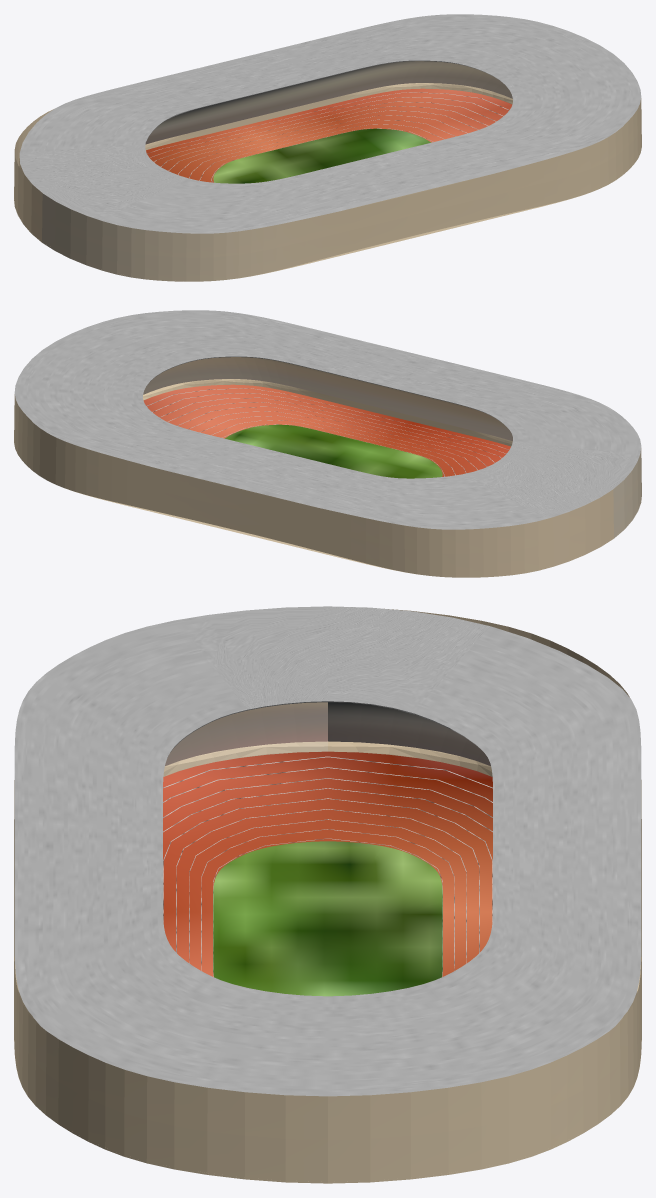
The model's file is stadium_nosky.obj.
3 views of the same model, one above another, from view 1: azimuth 30°, elevation 25°; view 2: azimuth 150°, elevation 25°; view 3: azimuth 270°, elevation 25° (orthographic). The views are drawn at different scales.
Parts seen in each view (by area): view 1: Roof_Torus.002, Stadium_Outer_Torus.005, Track_Torus.003, Crowds_Torus.001, Grass_Torus.004, Stadium_Torus, Lane_Torus.006; view 2: Roof_Torus.002, Stadium_Outer_Torus.005, Track_Torus.003, Crowds_Torus.001, Grass_Torus.004, Stadium_Torus, Lane_Torus.006; view 3: Roof_Torus.002, Stadium_Outer_Torus.005, Track_Torus.003, Grass_Torus.004, Crowds_Torus.001, Lane_Torus.006, Stadium_Torus.
Boxes of the visible parts, x1=… form: Roof_Torus.002: x1=19, y1=14, x2=641, y2=233; Stadium_Outer_Torus.005: x1=14, y1=98, x2=641, y2=281; Track_Torus.003: x1=146, y1=88, x2=512, y2=182; Crowds_Torus.001: x1=145, y1=61, x2=512, y2=144; Grass_Torus.004: x1=213, y1=128, x2=430, y2=183; Stadium_Torus: x1=19, y1=83, x2=635, y2=278; Lane_Torus.006: x1=147, y1=92, x2=509, y2=182; Roof_Torus.002: x1=14, y1=310, x2=641, y2=529; Stadium_Outer_Torus.005: x1=14, y1=394, x2=641, y2=577; Track_Torus.003: x1=143, y1=384, x2=510, y2=476; Crowds_Torus.001: x1=143, y1=357, x2=512, y2=441; Grass_Torus.004: x1=225, y1=424, x2=442, y2=478; Stadium_Torus: x1=20, y1=379, x2=631, y2=574; Lane_Torus.006: x1=146, y1=388, x2=508, y2=476; Roof_Torus.002: x1=14, y1=606, x2=641, y2=1096; Stadium_Outer_Torus.005: x1=14, y1=608, x2=641, y2=1183; Track_Torus.003: x1=163, y1=751, x2=492, y2=976; Grass_Torus.004: x1=213, y1=841, x2=442, y2=996; Crowds_Torus.001: x1=165, y1=702, x2=490, y2=765; Lane_Torus.006: x1=163, y1=756, x2=492, y2=976; Stadium_Torus: x1=14, y1=741, x2=641, y2=1181.
Size of what is drawn, in the model's own units: 167 by 14.19 by 90.37.
6 materials, 6 textured.
